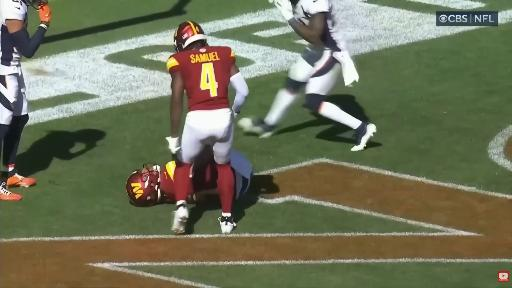Helmet: (126, 164, 162, 206), (174, 22, 206, 51)
Jersey: (166, 46, 235, 111), (294, 0, 343, 51), (0, 0, 27, 75), (231, 151, 252, 199)
Player: (239, 0, 376, 150), (166, 22, 248, 233), (0, 0, 50, 200), (126, 161, 175, 207)
